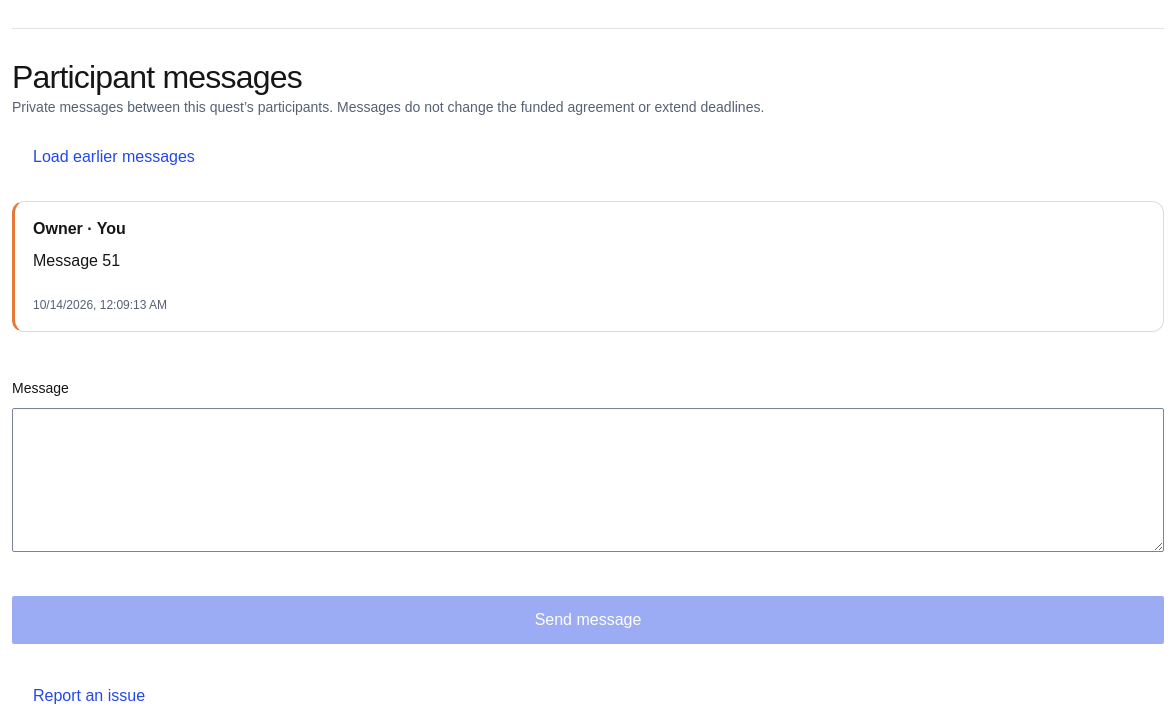
discards history loaded for a previous account
Click the button "Load earlier messages": click(114, 157) [12,133,216,181]
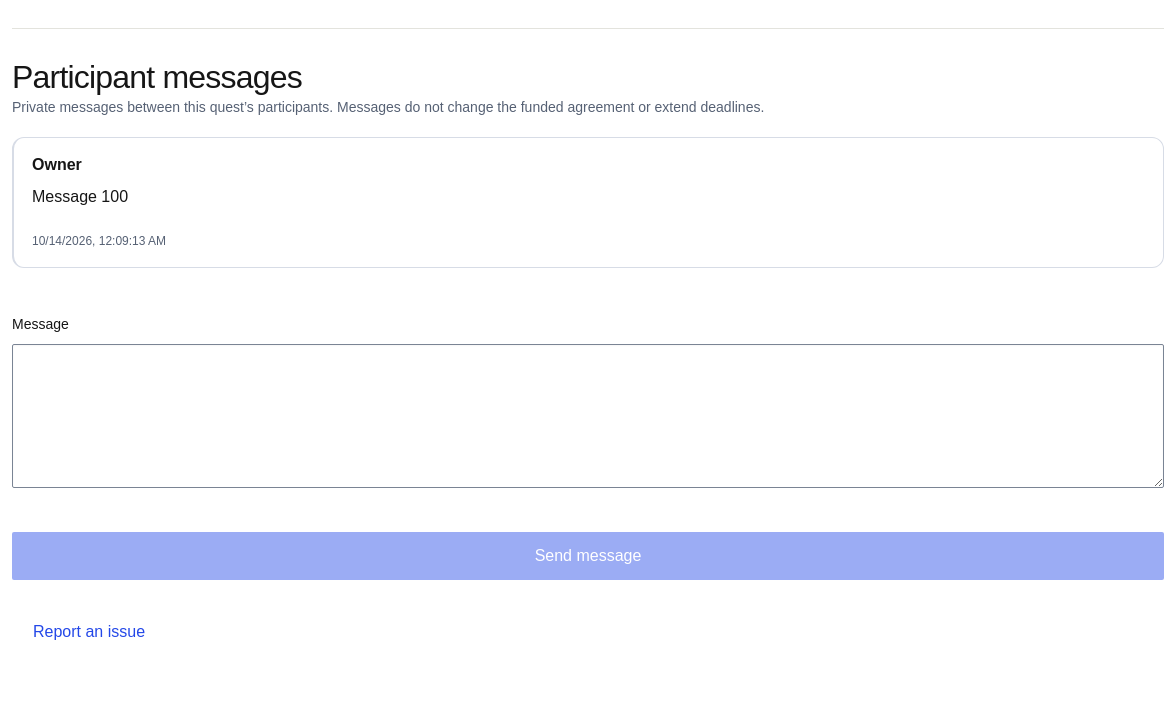
Now the text "Message 100" is shown, box [32,188,128,205]
Now the text "Load earlier messages" is gone
